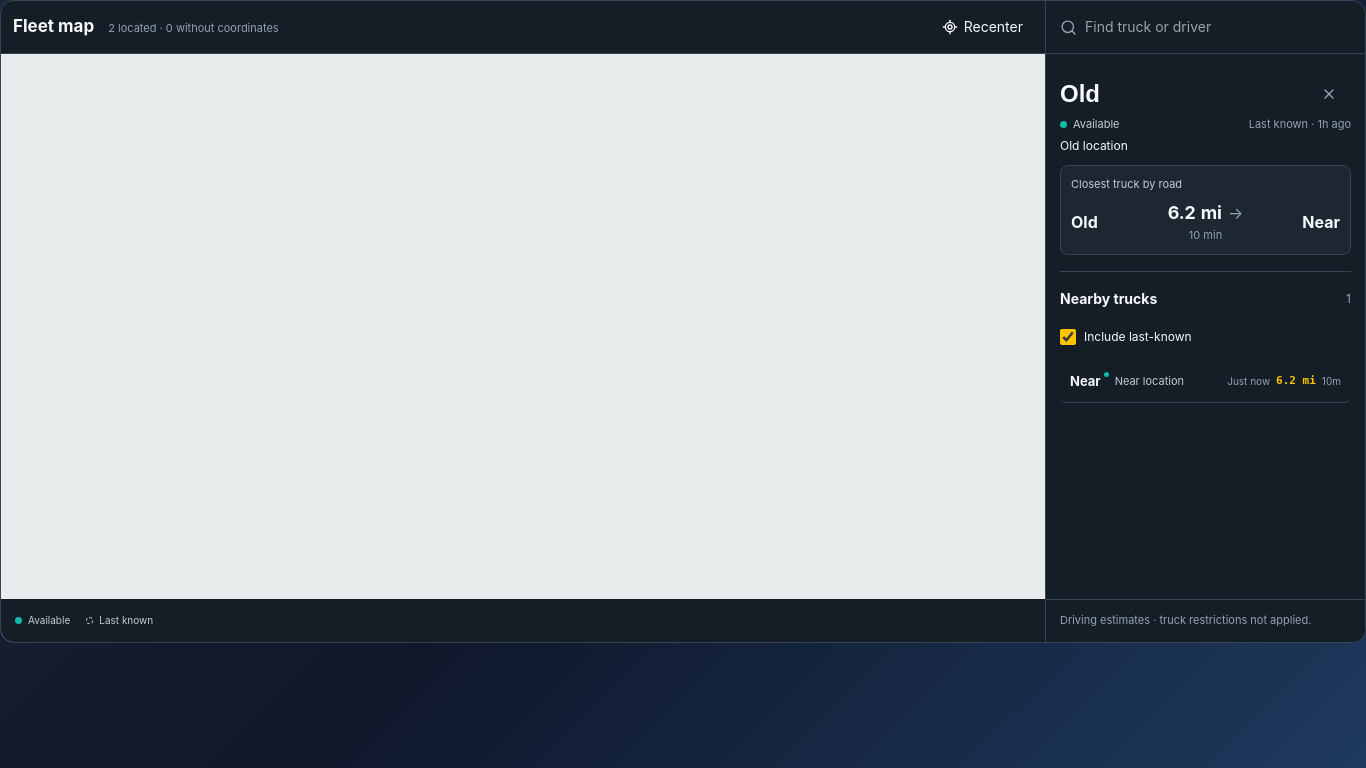
it: map workspace › uses last-known positions by default and can restrict to recent positions
Check: the button "Near Near location Just now 6.2 mi 10m" is shown, box x1=1060 y1=359 x2=1351 y2=403
Click the checkbox at [1068, 337], box x1=1060 y1=329 x2=1076 y2=345
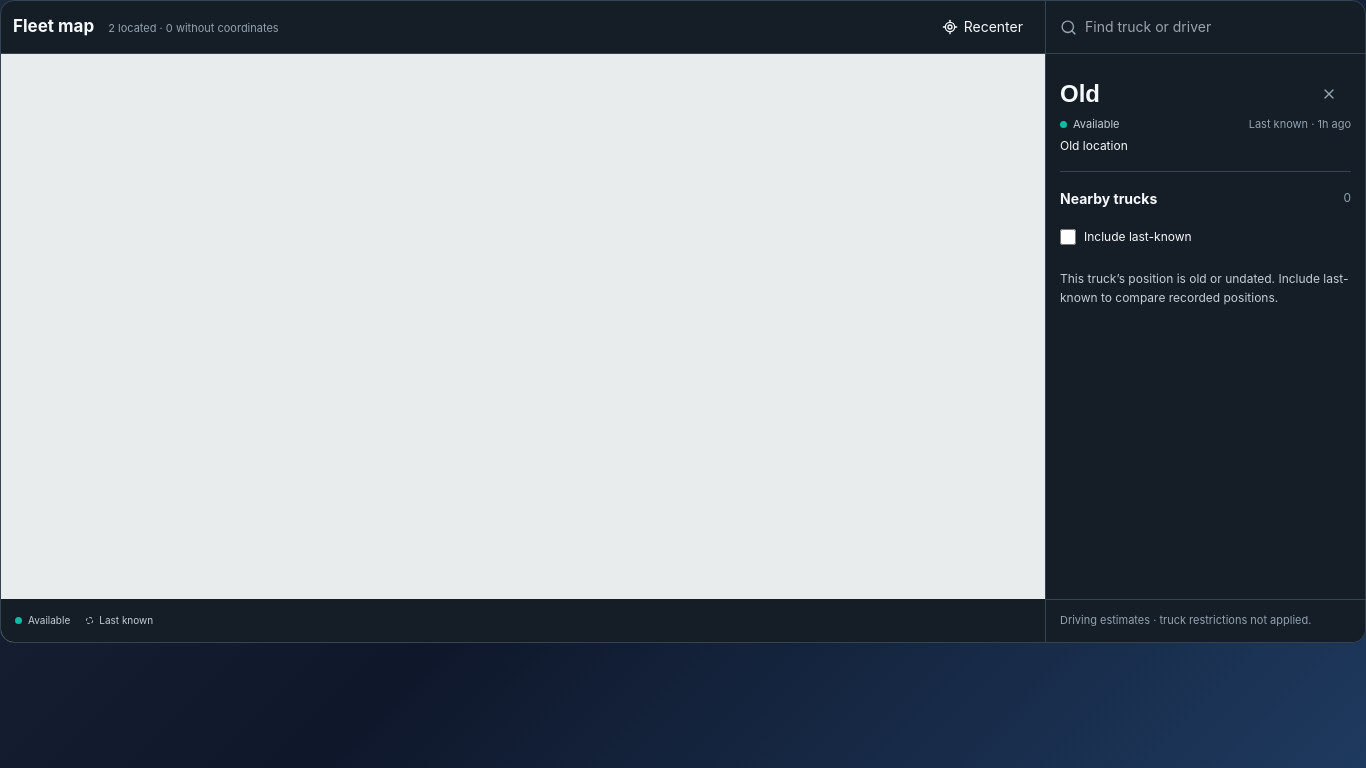
Check: the text "position is old or undated" is shown, box x1=1060 y1=270 x2=1348 y2=305
